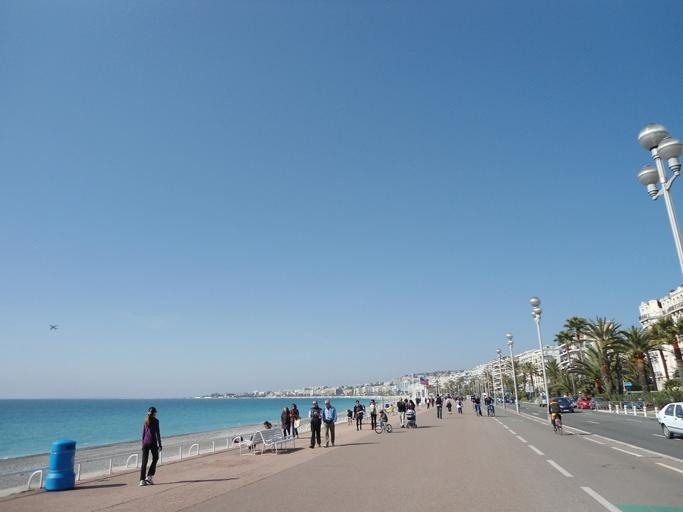non-vehicle: (547, 410, 562, 435), (373, 418, 391, 432), (485, 403, 495, 416), (474, 402, 480, 416)
